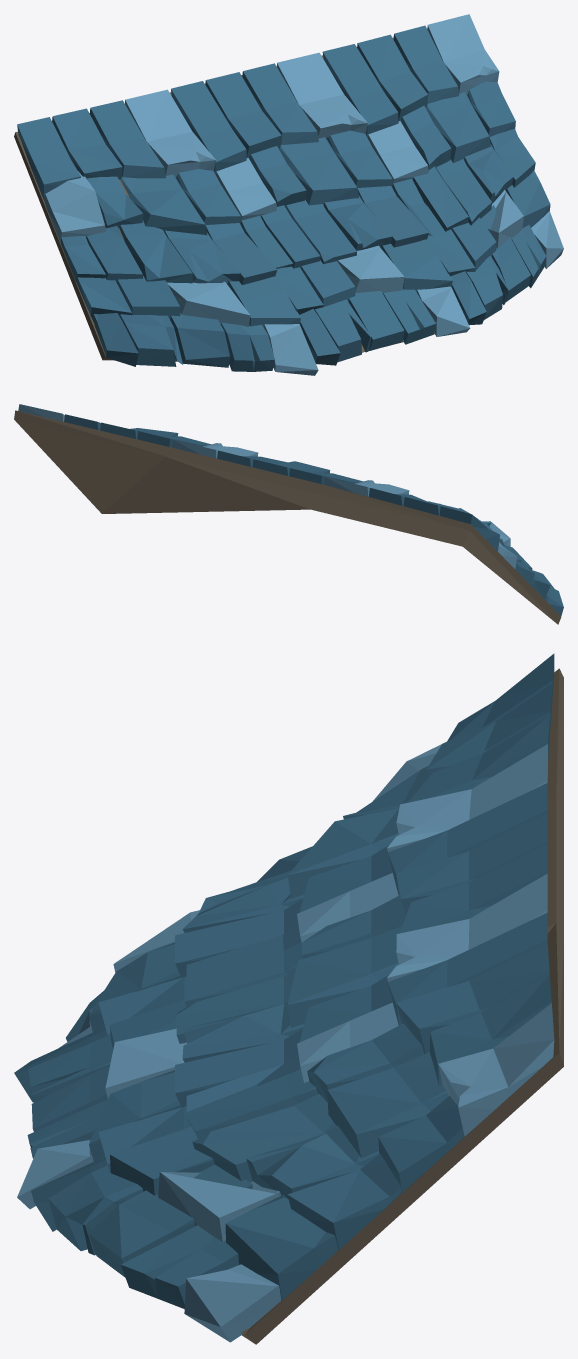
File: ROOF_base_round_1.fbx
The picture shows the model from 3 angles, top to bottom: view 1: azimuth 30°, elevation 25°; view 2: azimuth 150°, elevation 25°; view 3: azimuth 270°, elevation 25°; orthographic projection. The views are drawn at different scales.
Visible parts, largest first — view 1: ROOF_base_round_1; view 2: ROOF_base_round_1; view 3: ROOF_base_round_1.
Part boxes in pixels (bbox=[...]): ROOF_base_round_1: bbox=[14, 14, 563, 375]; ROOF_base_round_1: bbox=[14, 404, 563, 624]; ROOF_base_round_1: bbox=[14, 653, 563, 1344].
Size of the model in its own units: 301 by 112 by 179.
